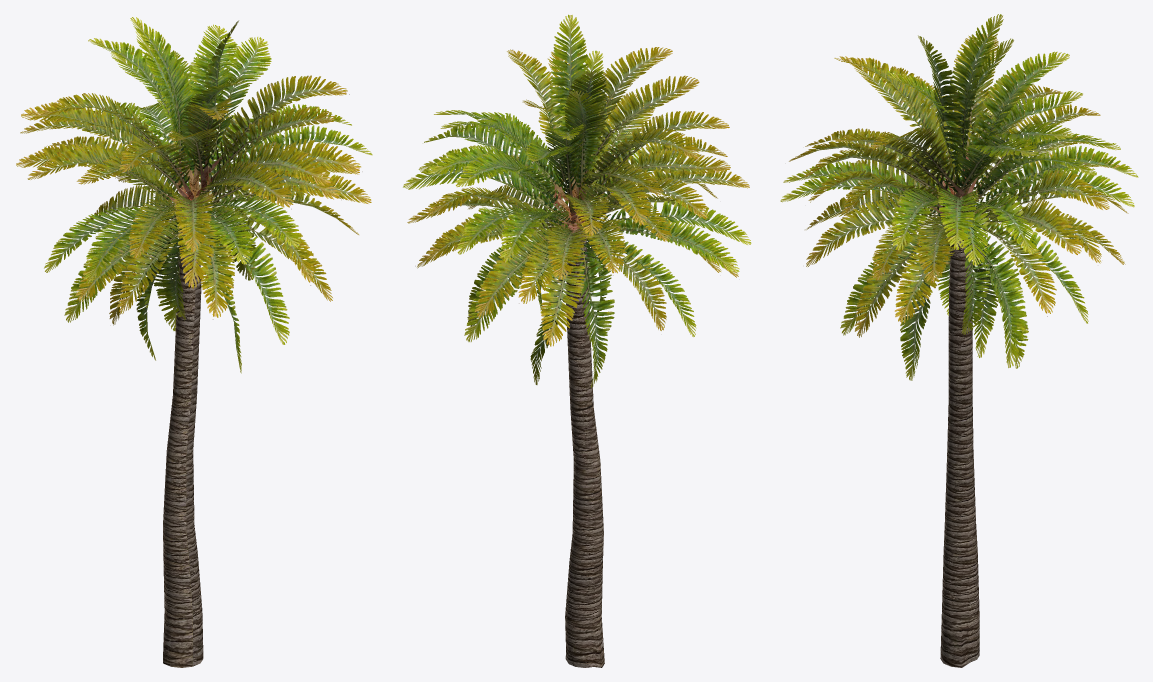
File: realpalm.glb
The picture shows the model from 3 angles, left to right: view 1: azimuth 30°, elevation 25°; view 2: azimuth 150°, elevation 25°; view 3: azimuth 270°, elevation 25°; orthographic projection. The views are drawn at different scales.
Parts seen in each view (by area): view 1: palm.001; view 2: palm.001; view 3: palm.001.
Part boxes in pixels (bbox=[...]): palm.001: bbox=[16, 17, 372, 667]; palm.001: bbox=[403, 14, 751, 667]; palm.001: bbox=[780, 14, 1138, 667].
Bounding box in the file's own units: 4.12 × 8 × 4.06.
Materials: 1 (1 with a texture image).
